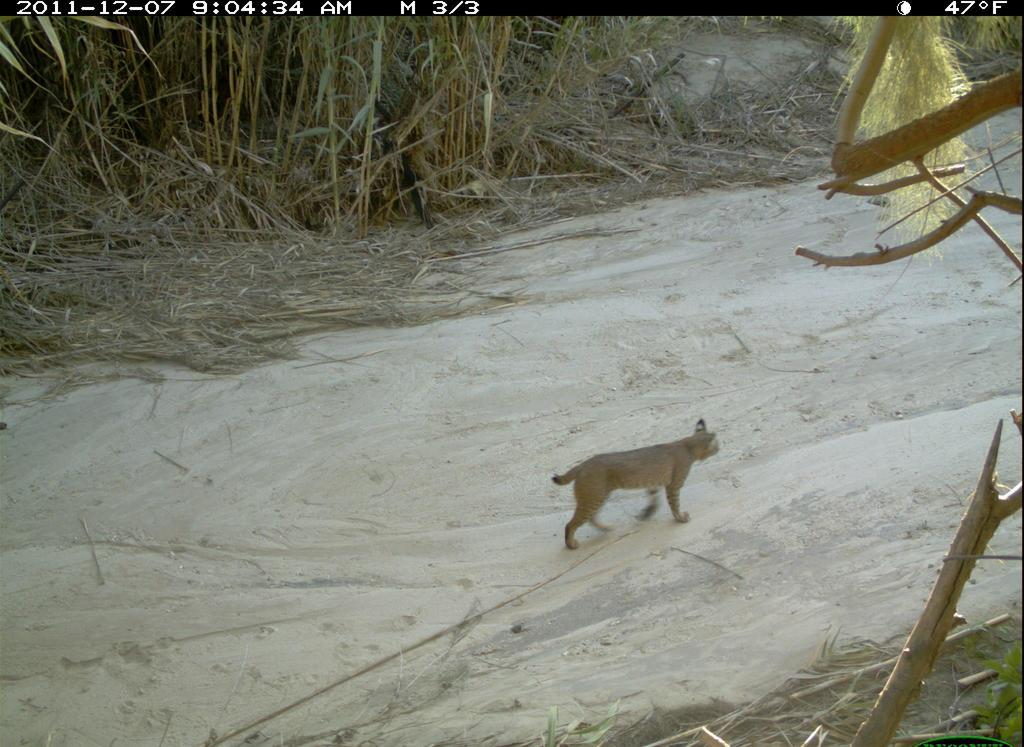bobcat: (539, 400, 725, 559)
